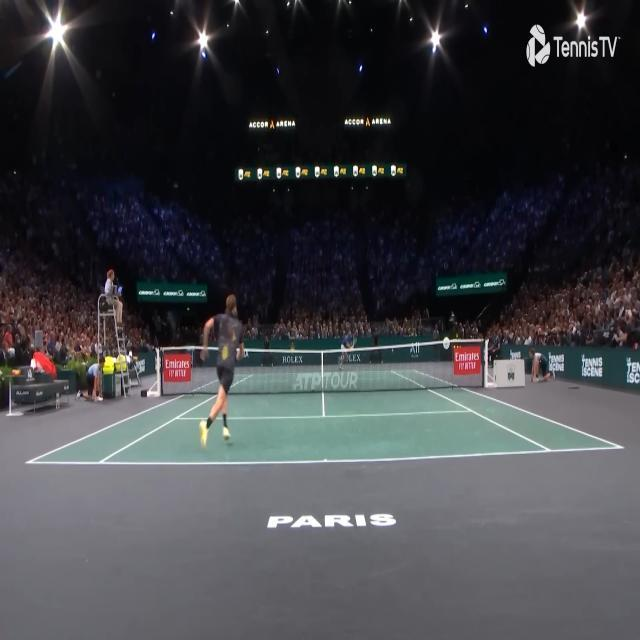court: (24, 370, 626, 464)
net: (155, 336, 489, 393)
player: (200, 294, 246, 450)
